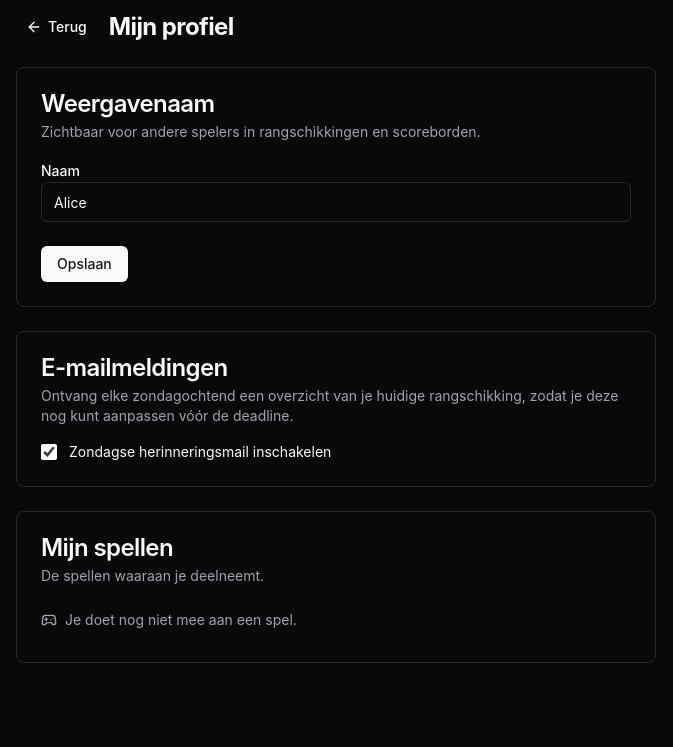
Test case: ProfilePage — email preferences › rolls back checkbox on save error
Click the checkbox: (49, 452) [41,444,57,460]
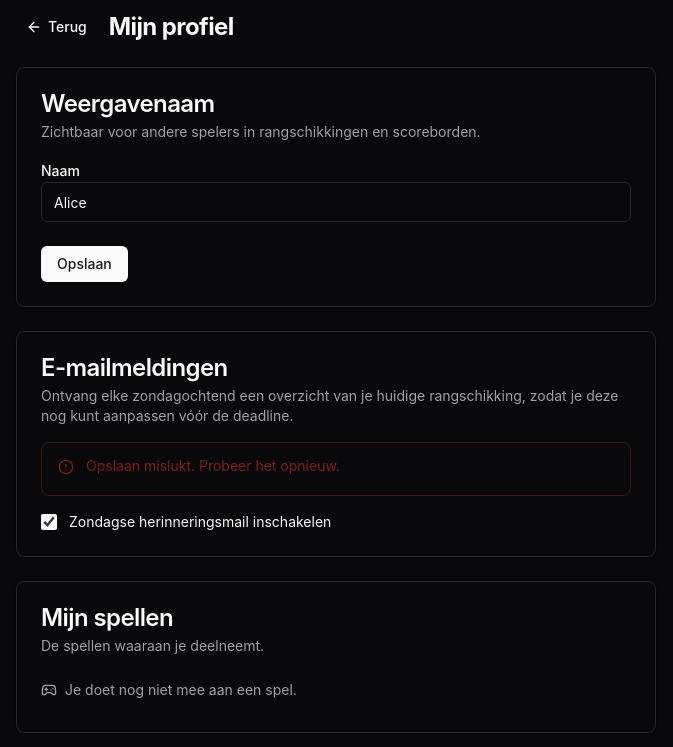
Expected: the checkbox is checked, [41,514,57,530]
Expected: the text "Opslaan mislukt. Probeer het opnieuw." is shown, [86,457,340,474]
